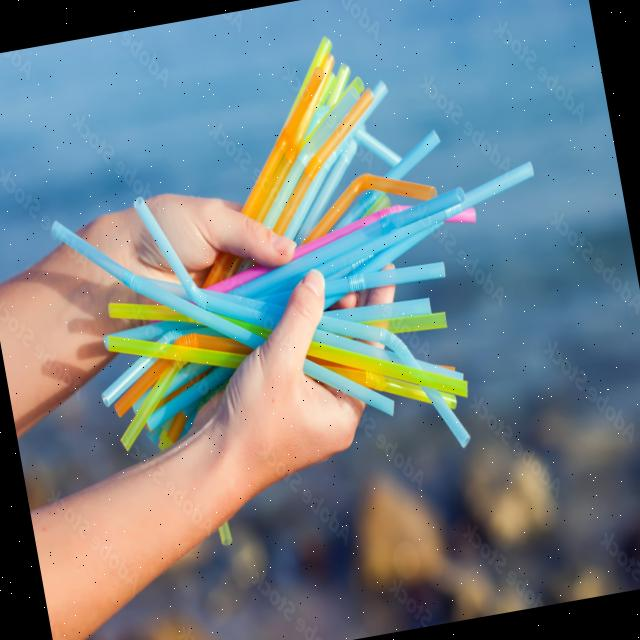plastic: (286, 72, 397, 196)
